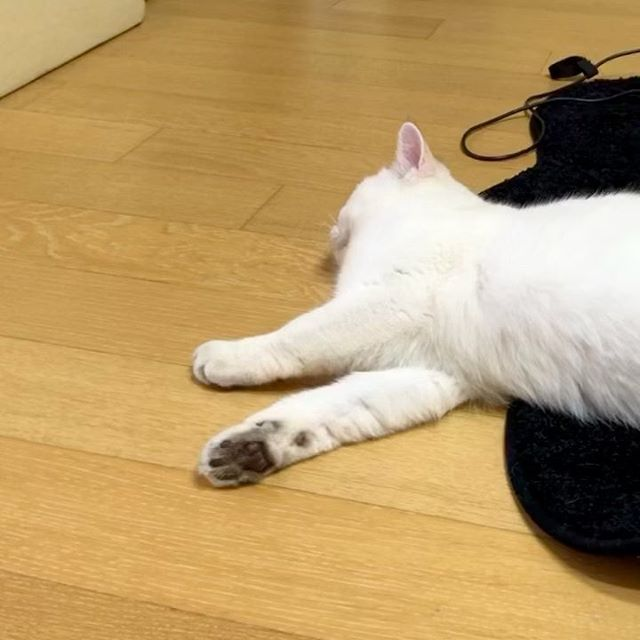cat: (327, 127, 478, 284)
